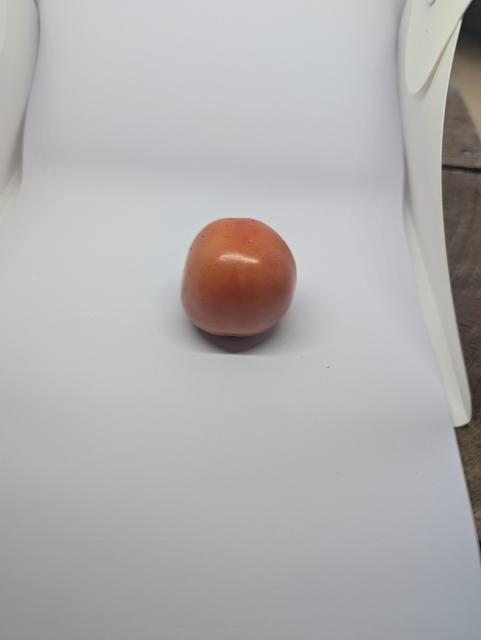red: (174, 209, 306, 353)
